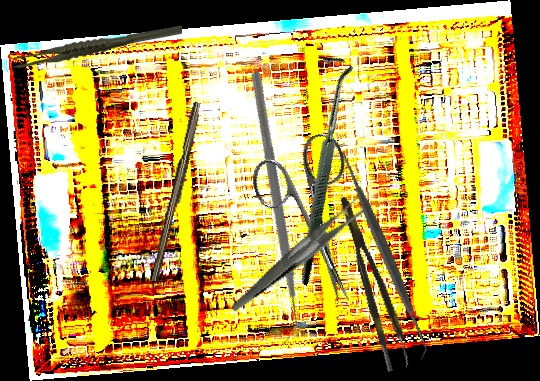Chopper: (134, 69, 405, 347)
Dressing Forceps: (210, 190, 390, 313)
Hook Surgical: (206, 50, 431, 286)
Iris Scissors: (244, 128, 391, 319)
Scalpel Handle: (149, 100, 205, 284)
Spatula Surgical: (274, 141, 495, 361)
Tissue Forceps: (337, 191, 413, 374), (13, 23, 183, 70)
